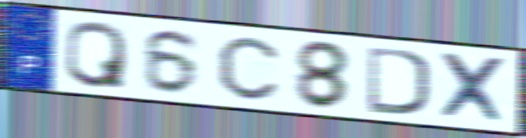6: (142, 27, 202, 95)
8: (293, 38, 353, 112)
C: (215, 35, 281, 103)
D: (365, 44, 433, 118)
Q: (62, 19, 129, 91)
X: (436, 50, 511, 127)
